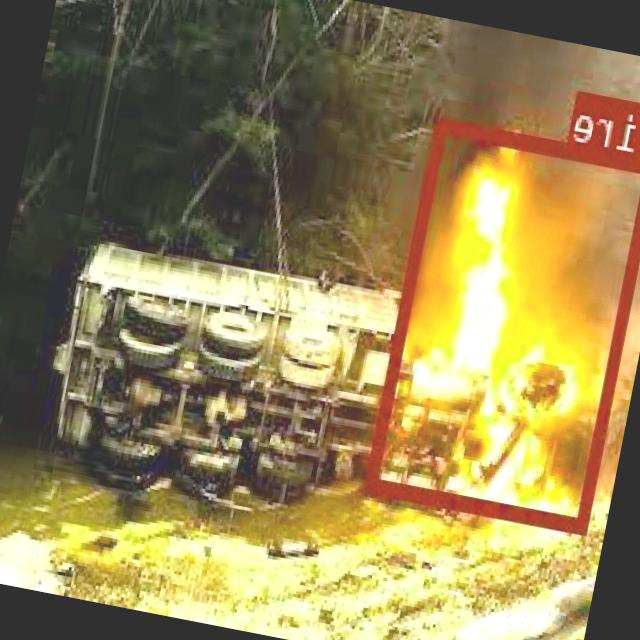fire: (369, 118, 640, 531)
